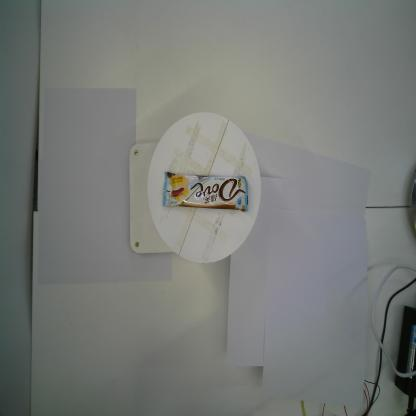Chocolate: (162, 171, 249, 212)
